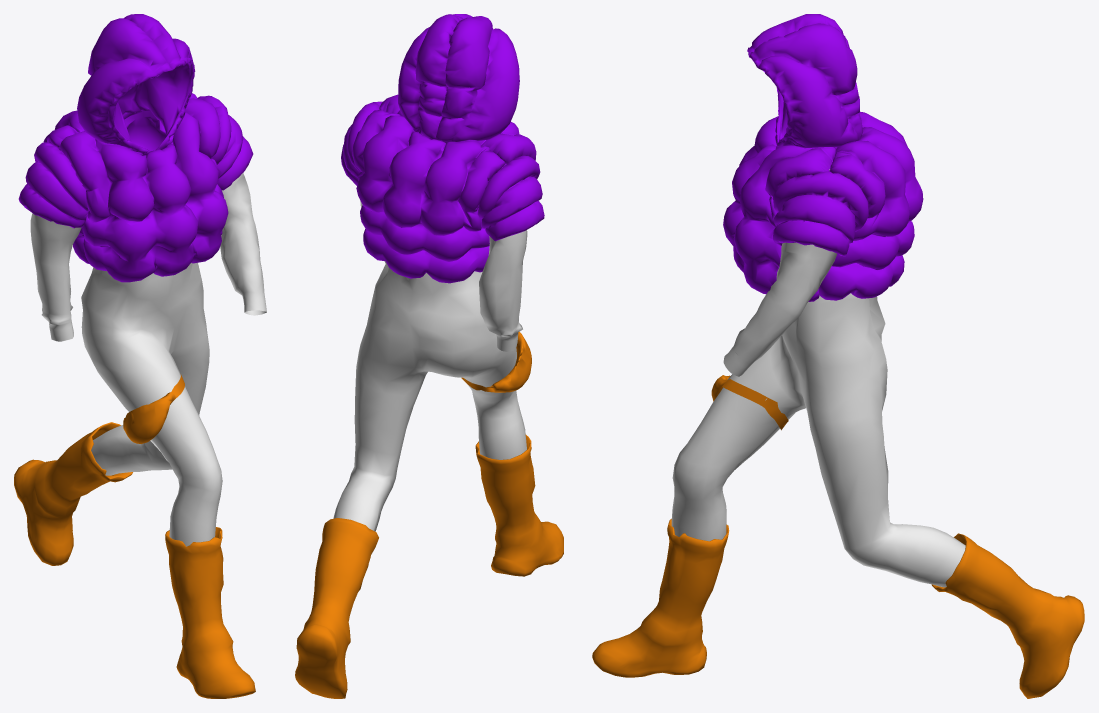
File: Sm_Northface_WAter.fbx
The picture shows the model from 3 angles, left to right: view 1: azimuth 30°, elevation 25°; view 2: azimuth 150°, elevation 25°; view 3: azimuth 270°, elevation 25°; orthographic projection. The views are drawn at different scales.
Parts seen in each view (by area): view 1: 4_low_ropaAgua.001, 2_low_ropaAgua.006, 1_low_ropaAgua.004, 5_low_ropaAgua.008, 1_low_ropaAgua.001, 3_low_ropaAgua.001; view 2: 4_low_ropaAgua.001, 2_low_ropaAgua.006, 1_low_ropaAgua.001, 1_low_ropaAgua.004, 5_low_ropaAgua.008, 3_low_ropaAgua.001; view 3: 4_low_ropaAgua.001, 2_low_ropaAgua.006, 1_low_ropaAgua.004, 1_low_ropaAgua.001, 5_low_ropaAgua.008, 3_low_ropaAgua.001.
Part boxes in pixels (<box>): 4_low_ropaAgua.001: <box>18,14,253,282</box>; 2_low_ropaAgua.006: <box>81,262,222,546</box>; 1_low_ropaAgua.004: <box>165,527,255,698</box>; 5_low_ropaAgua.008: <box>30,173,266,341</box>; 1_low_ropaAgua.001: <box>14,422,132,565</box>; 3_low_ropaAgua.001: <box>123,374,184,443</box>; 4_low_ropaAgua.001: <box>341,14,544,283</box>; 2_low_ropaAgua.006: <box>333,261,526,531</box>; 1_low_ropaAgua.001: <box>295,518,378,698</box>; 1_low_ropaAgua.004: <box>475,434,563,576</box>; 5_low_ropaAgua.008: <box>360,200,527,351</box>; 3_low_ropaAgua.001: <box>461,331,531,392</box>; 4_low_ropaAgua.001: <box>723,14,923,301</box>; 2_low_ropaAgua.006: <box>671,293,965,587</box>; 1_low_ropaAgua.004: <box>592,519,729,677</box>; 1_low_ropaAgua.001: <box>931,533,1084,698</box>; 5_low_ropaAgua.008: <box>723,169,836,376</box>; 3_low_ropaAgua.001: <box>711,375,788,430</box>.
Bounding box in the file's own units: 63.11 × 179 × 121.
